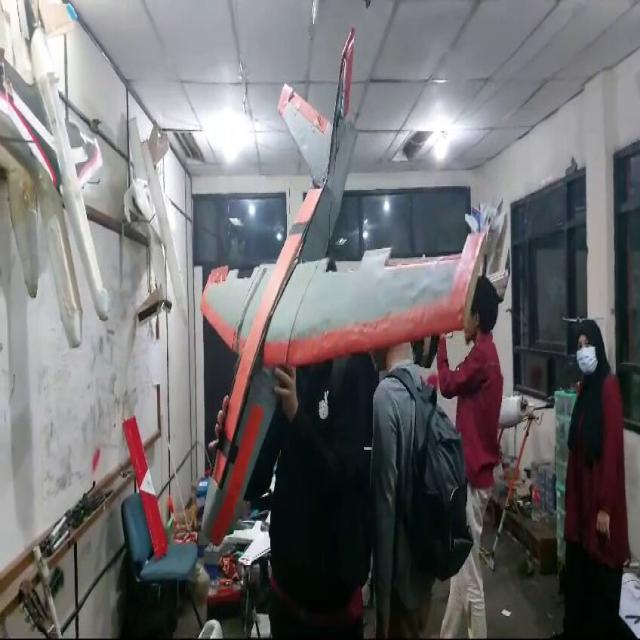plane: (197, 24, 510, 549)
